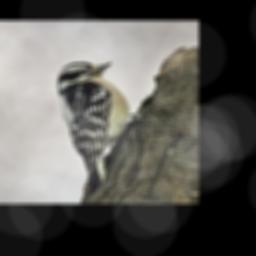Woodpecker: (52, 58, 156, 198)
